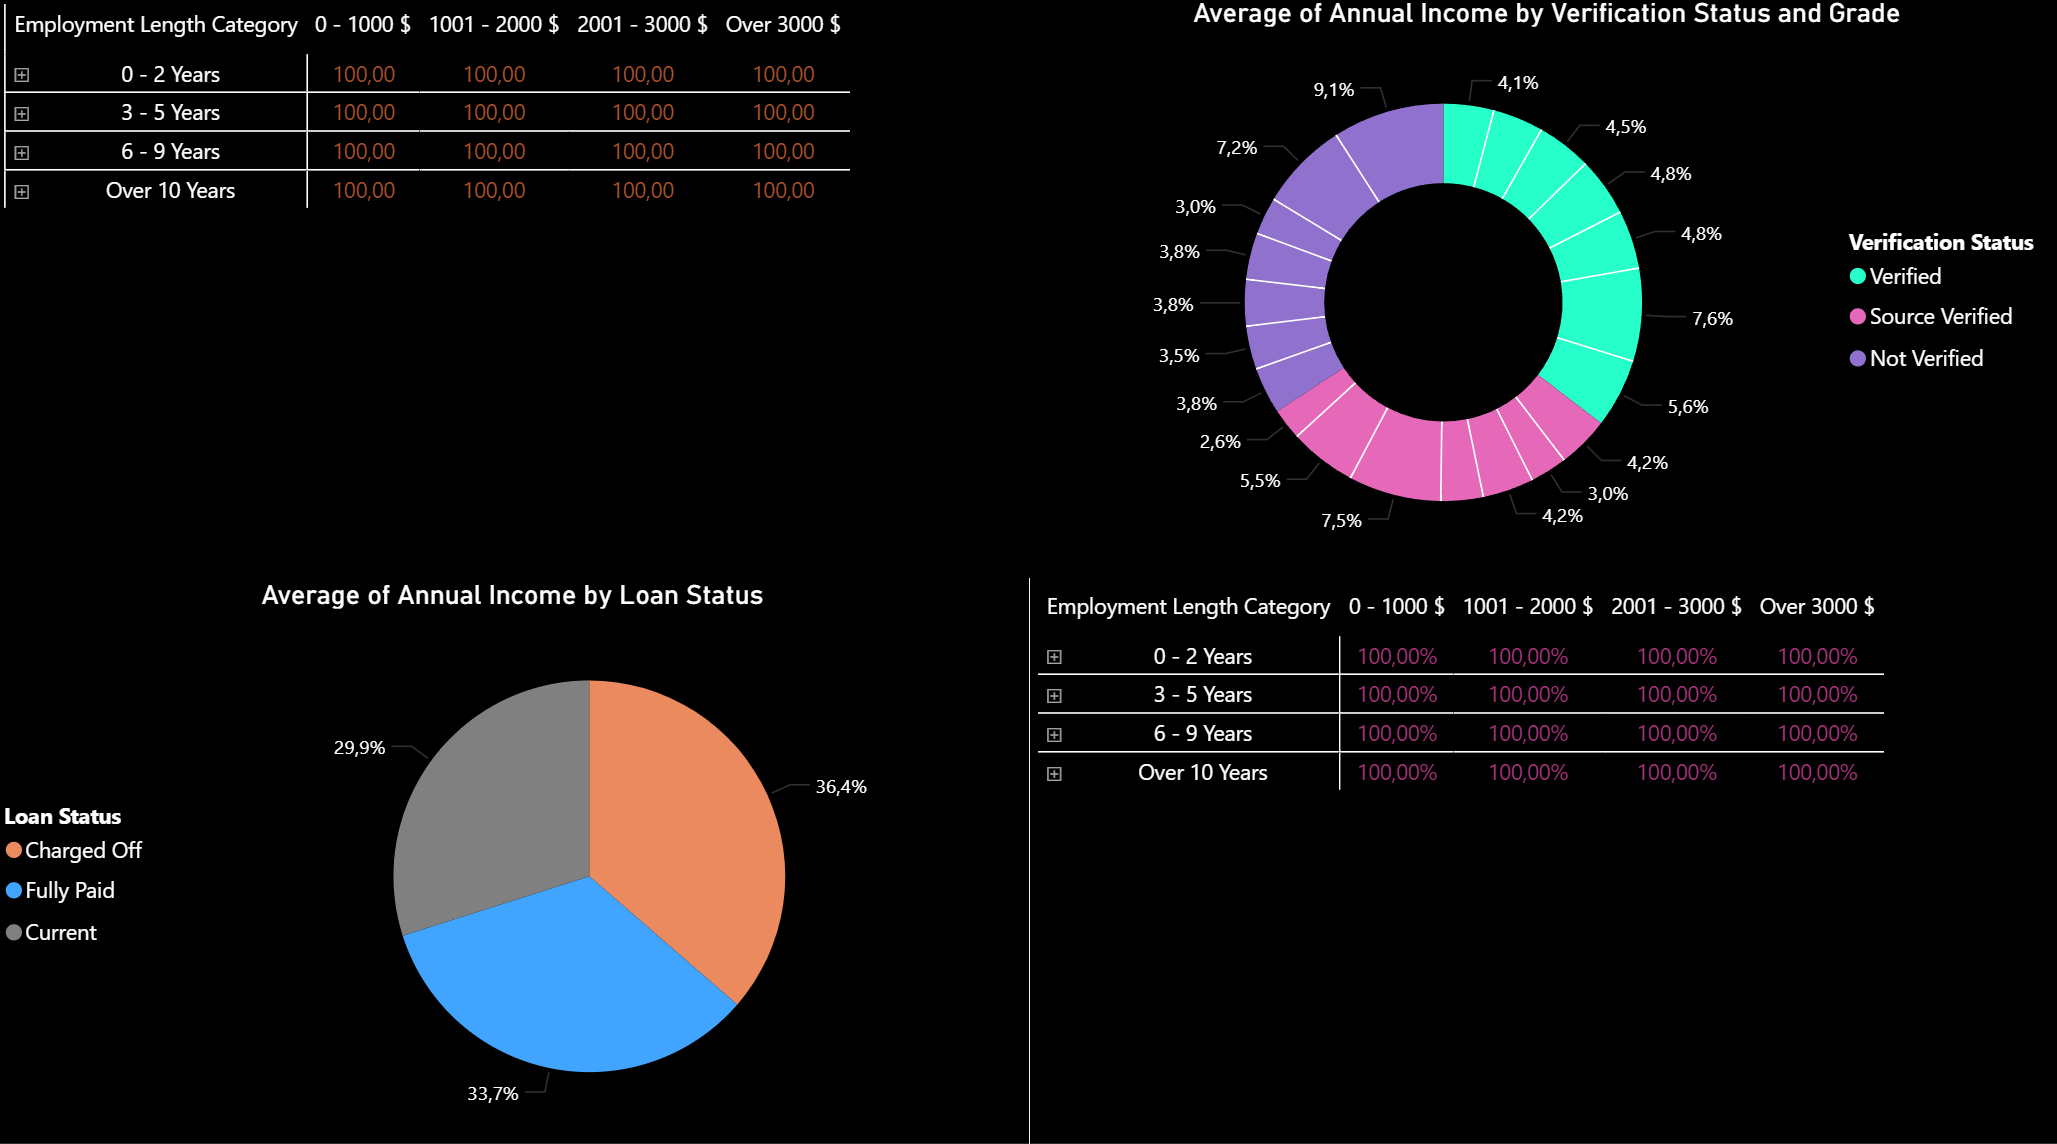

The dashboard page shown, as its layout file describes it:
{"tool":"powerbi","page":{"name":"More Information","canvas":[1280,720],"ordinal":3},"visuals":[{"type":"pivotTable","fields":{"Rows":["loan.Employment Length Category","loan.Purpose"],"Columns":["loan.Monthly Income Category"],"Values":["loan.Purpose %"]},"box":[0,0,640.3,360],"z":0},{"type":"pivotTable","fields":{"Rows":["loan.Employment Length Category","loan.Home Ownership"],"Columns":["loan.Monthly Income Category"],"Values":["loan.Home Ownership %"]},"box":[639.4,360,640.3,350.1],"z":1000},{"type":"pieChart","fields":{"Y":["Avg(loan.Annual Income)"],"Category":["loan.Loan Status"]},"box":[0,360,639,350],"z":2000},{"type":"donutChart","fields":{"Y":["Avg(loan.Annual Income)"],"Category":["loan.Verification Status"],"Series":["loan.Grade"]},"box":[639.4,0,639.4,360],"z":3000}]}

Visuals, with their boxes in screenshot pixels (x1, y1, x2, y2), scaled from the page's 1280x720 canvas onto the 2057x1144 screenshot:
pivotTable - loan.Employment Length Category x loan.Purpose: [x1=0, y1=0, x2=1029, y2=572]
pivotTable - loan.Employment Length Category x loan.Home Ownership: [x1=1028, y1=572, x2=2056, y2=1128]
pieChart - Avg(loan.Annual Income) x loan.Loan Status: [x1=0, y1=572, x2=1027, y2=1128]
donutChart - Avg(loan.Annual Income) x loan.Verification Status: [x1=1028, y1=0, x2=2055, y2=572]
